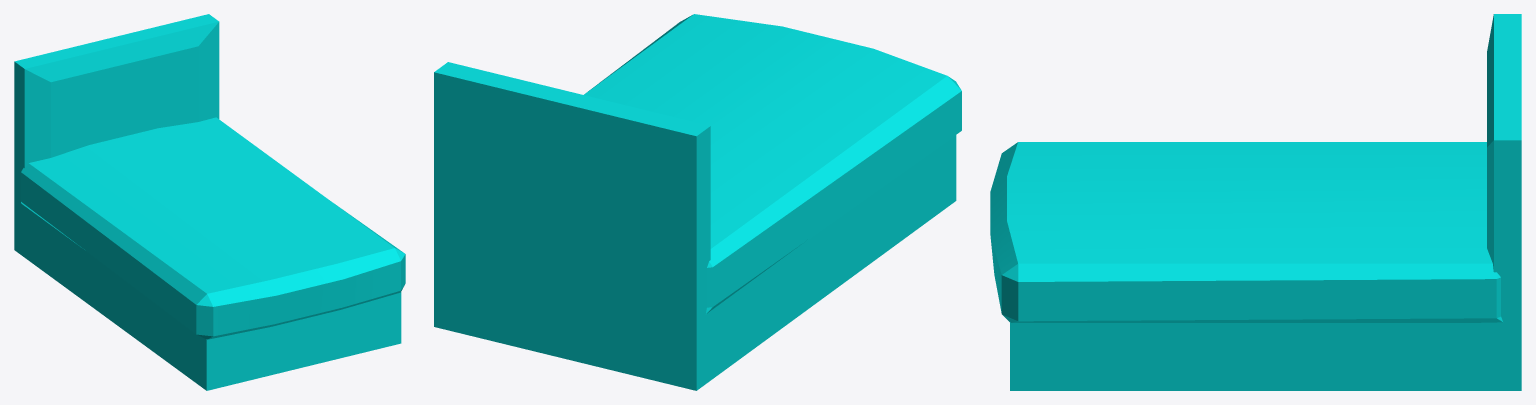
Rendered from SM_Prop_Bed_Single_01_Collision.fbx.
3 views of the same model, side by side, from view 1: azimuth 30°, elevation 25°; view 2: azimuth 150°, elevation 25°; view 3: azimuth 270°, elevation 25° (orthographic). The views are drawn at different scales.
Parts seen in each view (by area): view 1: SM_Prop_Bed_Single_01_Collision; view 2: SM_Prop_Bed_Single_01_Collision; view 3: SM_Prop_Bed_Single_01_Collision.
Part boxes in pixels (box(x1,y1,x2,y2)): SM_Prop_Bed_Single_01_Collision: box(14, 14, 405, 390); SM_Prop_Bed_Single_01_Collision: box(434, 14, 961, 390); SM_Prop_Bed_Single_01_Collision: box(990, 14, 1521, 390).
Bounding box in the file's own units: 156 × 135 × 258.
